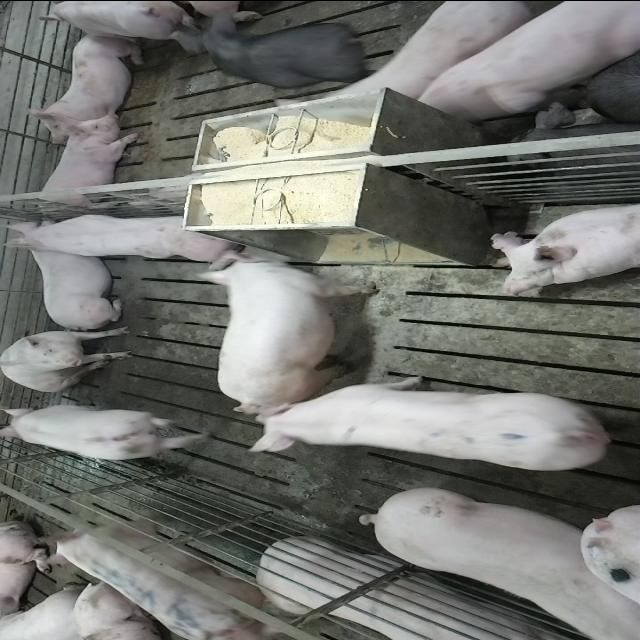Feeding: (201, 250, 385, 420)
Lateral_lying: (257, 539, 589, 640)
Sitting: (8, 207, 246, 261), (1, 326, 138, 393)
Standing: (359, 484, 633, 634), (242, 370, 626, 460), (43, 517, 314, 640), (358, 2, 588, 108), (0, 400, 218, 460)
Sternal_lying: (488, 199, 640, 294), (19, 32, 147, 140), (28, 119, 142, 214), (26, 240, 124, 326)
